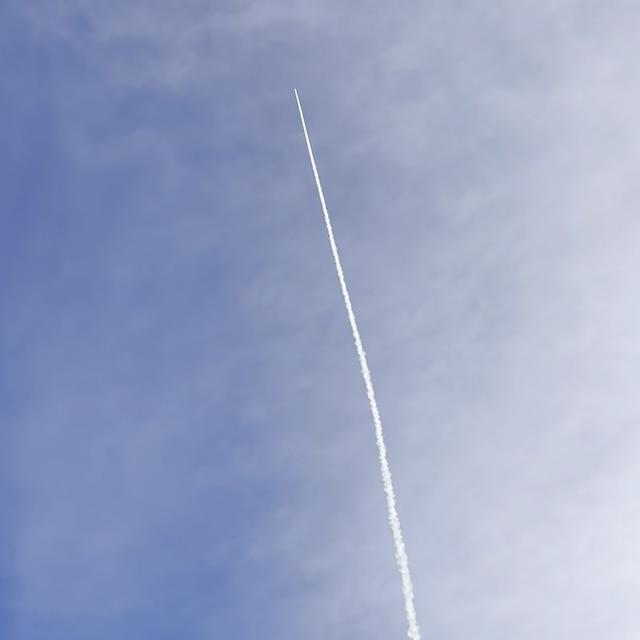smoke_trail_no_rocket: (294, 92, 420, 640)
